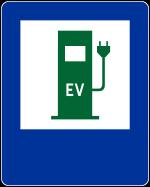Petrol Pump- Gas Station: (10, 11, 135, 139)
